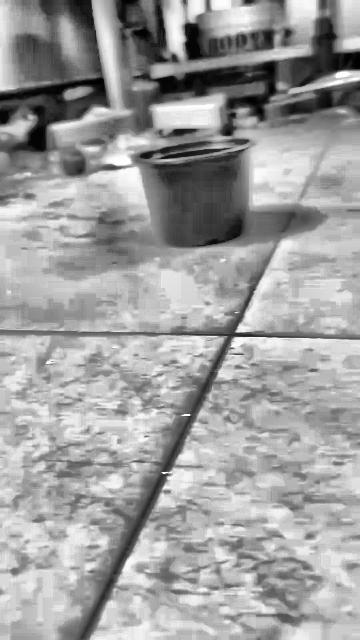pot: (131, 138, 255, 246)
